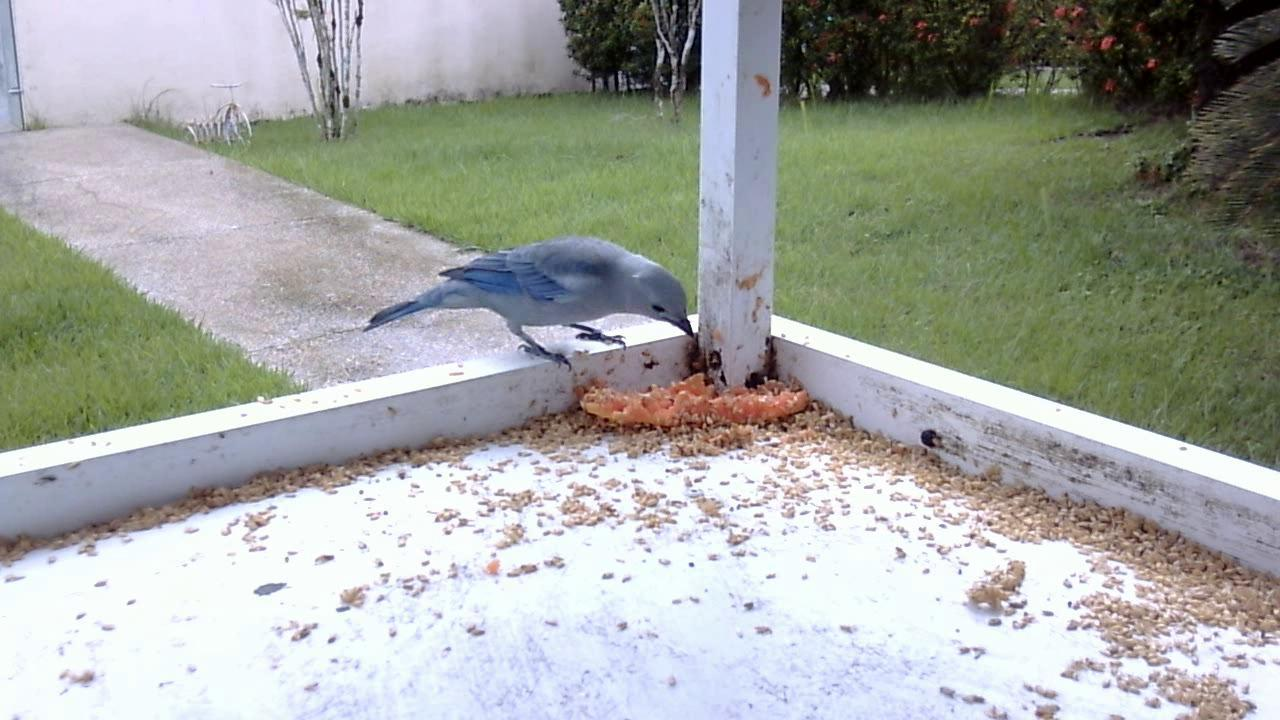sanhaco_da_amazonia: (357, 228, 698, 381)
